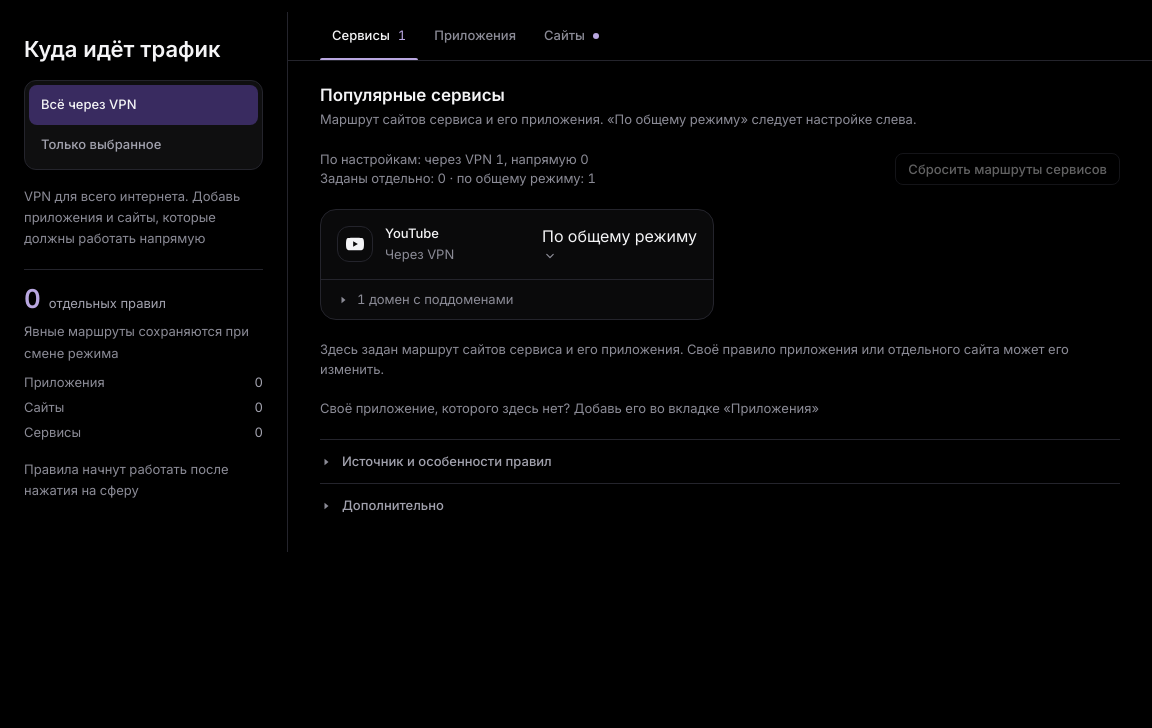
ошибка сохраняет черновик и позволяет повторить применение
Step 1. Click the radio button labelled "Только выбранное" → {"x": 144, "y": 144}, box [29,124,258,164]
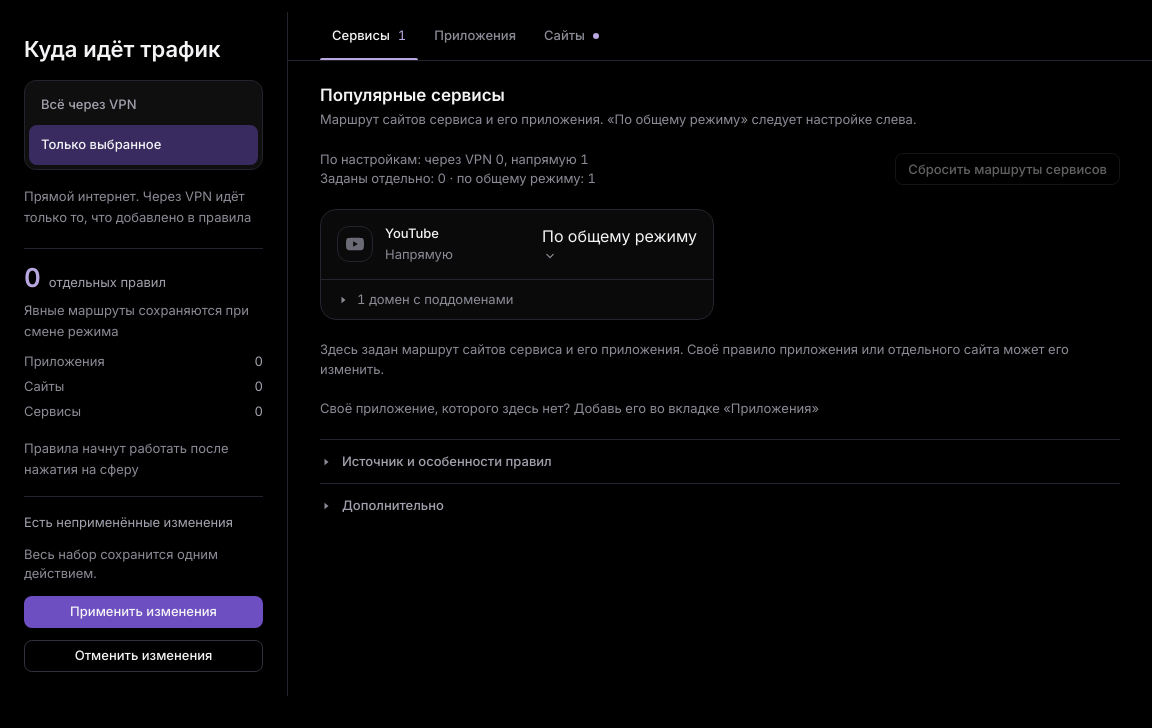
Step 2. Click the button "Применить изменения" → {"x": 144, "y": 612}, box [24,596,263,628]
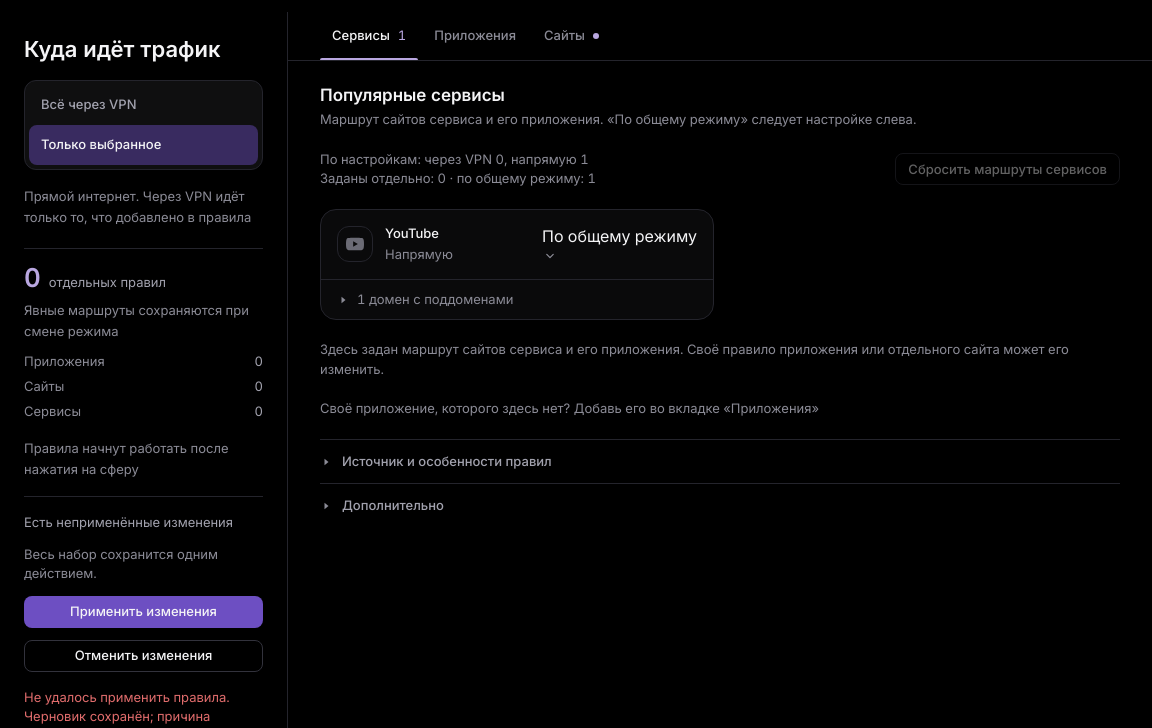
Result: the radio button labelled "Только выбранное" is checked at [29,124,258,164]
Step 3. Click the button "Применить изменения" → {"x": 144, "y": 612}, box [24,596,263,628]
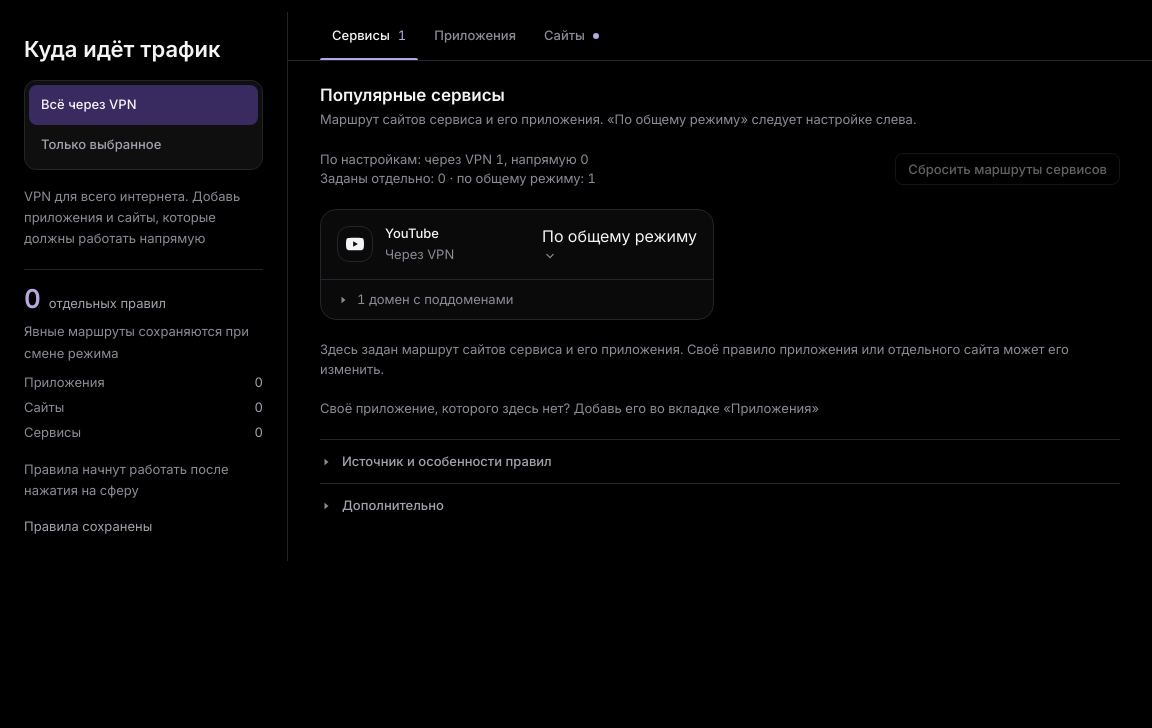
Result: the message reads "Правила сохранены" at [24,518,152,534]
